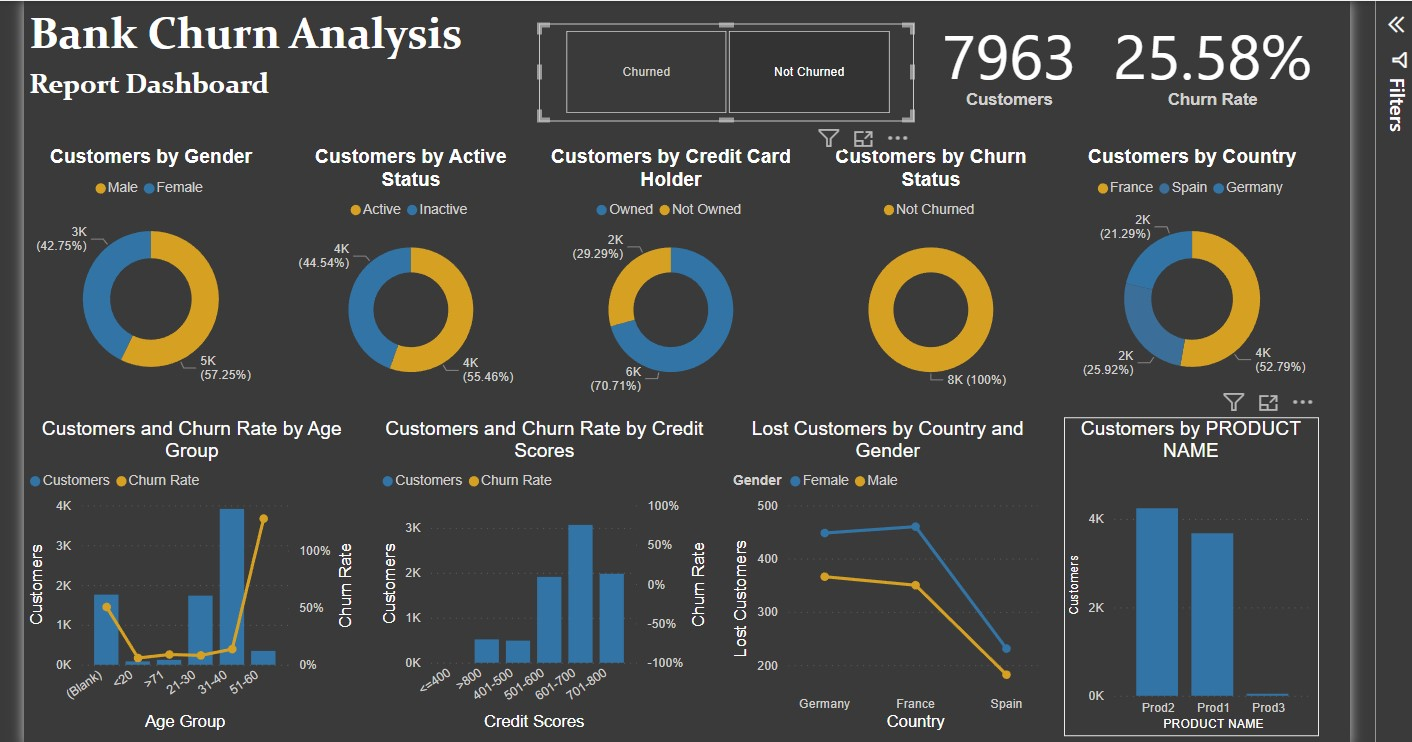

This screenshot's page, from the dashboard's own definition file:
{"tool":"powerbi","page":{"name":"Page 1","canvas":[1280,720],"ordinal":0},"visuals":[{"type":"card","fields":{"Values":["CALCULATED MEASURES.Customers"]},"box":[843.2,0,215.4,115.3],"z":0},{"type":"card","fields":{"Values":["CALCULATED MEASURES.Churn Rate"]},"box":[1042.9,0,207.2,115.3],"z":1000},{"type":"donutChart","fields":{"Y":["CALCULATED MEASURES.Customers"],"Category":["CUSTOMER DATA.GENDER"]},"box":[0,139.7,245,245],"z":2000},{"type":"donutChart","fields":{"Category":["CUSTOMER DATA.ACTIVE STATUS"],"Y":["CALCULATED MEASURES.Customers"]},"box":[251,139.7,245,245],"z":3000},{"type":"donutChart","fields":{"Y":["CALCULATED MEASURES.Customers"],"Category":["CUSTOMER DATA.CREDIT CARD HOLDER"]},"box":[502.1,139.7,245,245],"z":4000},{"type":"donutChart","fields":{"Y":["CALCULATED MEASURES.Customers"],"Category":["CUSTOMER DATA.CHURN STATUS"]},"box":[753.1,139.7,245,245],"z":5000},{"type":"donutChart","fields":{"Y":["CALCULATED MEASURES.Customers"],"Category":["CUSTOMER DATA.COUNTRY"]},"box":[1004.2,139.7,245,245],"z":6000},{"type":"slicer","fields":{"Values":["CUSTOMER DATA.Churn Status"]},"box":[496.7,22,362.3,93.3],"z":7000},{"type":"lineClusteredColumnComboChart","fields":{"Y":["CALCULATED MEASURES.Customers"],"Category":["AGE GROUP.Age Group"],"Y2":["CALCULATED MEASURES.Churn Rate"]},"box":[0,402,323.8,307.4],"z":8000},{"type":"lineClusteredColumnComboChart","fields":{"Y":["CALCULATED MEASURES.Customers"],"Category":["Credit Score group.CREDIT SCORES"],"Y2":["CALCULATED MEASURES.Churn Rate"]},"box":[339.7,402,323.8,307.4],"z":9000},{"type":"lineChart","fields":{"Y":["CALCULATED MEASURES.Lost Customers"],"Category":["CUSTOMER DATA.Country"],"Series":["CUSTOMER DATA.Gender"]},"box":[679.4,402,308.7,307.4],"z":10000},{"type":"columnChart","fields":{"Y":["CALCULATED MEASURES.Customers"],"Category":["CUSTOMER DATA.PRODUCT NAME"]},"box":[1004,402,245,307],"z":11000},{"type":"textbox","box":[0,0,496.7,91.9],"z":12000},{"type":"textbox","box":[0,57.6,296.4,57.6],"z":13000}]}

Visuals, with their boxes on the page's 1280x720 design canvas (x1, y1, x2, y2). These are canvas units, not pixel positions in the 1412x742 screenshot, which may show the page scaled, cropped or inside an application window:
card - CALCULATED MEASURES.Customers: {"x1": 843, "y1": 0, "x2": 1059, "y2": 115}
card - CALCULATED MEASURES.Churn Rate: {"x1": 1043, "y1": 0, "x2": 1250, "y2": 115}
donutChart - CALCULATED MEASURES.Customers x CUSTOMER DATA.GENDER: {"x1": 0, "y1": 140, "x2": 245, "y2": 385}
donutChart - CUSTOMER DATA.ACTIVE STATUS x CALCULATED MEASURES.Customers: {"x1": 251, "y1": 140, "x2": 496, "y2": 385}
donutChart - CALCULATED MEASURES.Customers x CUSTOMER DATA.CREDIT CARD HOLDER: {"x1": 502, "y1": 140, "x2": 747, "y2": 385}
donutChart - CALCULATED MEASURES.Customers x CUSTOMER DATA.CHURN STATUS: {"x1": 753, "y1": 140, "x2": 998, "y2": 385}
donutChart - CALCULATED MEASURES.Customers x CUSTOMER DATA.COUNTRY: {"x1": 1004, "y1": 140, "x2": 1249, "y2": 385}
slicer - CUSTOMER DATA.Churn Status: {"x1": 497, "y1": 22, "x2": 859, "y2": 115}
lineClusteredColumnComboChart - CALCULATED MEASURES.Customers x AGE GROUP.Age Group: {"x1": 0, "y1": 402, "x2": 324, "y2": 709}
lineClusteredColumnComboChart - CALCULATED MEASURES.Customers x Credit Score group.CREDIT SCORES: {"x1": 340, "y1": 402, "x2": 664, "y2": 709}
lineChart - CALCULATED MEASURES.Lost Customers x CUSTOMER DATA.Country: {"x1": 679, "y1": 402, "x2": 988, "y2": 709}
columnChart - CALCULATED MEASURES.Customers x CUSTOMER DATA.PRODUCT NAME: {"x1": 1004, "y1": 402, "x2": 1249, "y2": 709}
textbox: {"x1": 0, "y1": 0, "x2": 497, "y2": 92}
textbox: {"x1": 0, "y1": 58, "x2": 296, "y2": 115}
